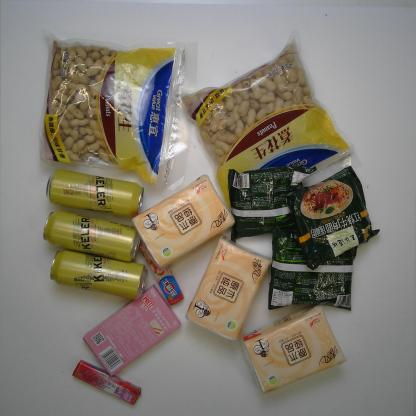Alcohol: (43, 210, 141, 262), (50, 249, 148, 300), (46, 169, 145, 217)
Candy: (138, 234, 184, 306), (72, 359, 142, 405)
Dessert: (83, 284, 181, 376)
Dried Food: (176, 32, 360, 225), (37, 28, 199, 194)
Instant Noodles: (284, 165, 381, 271), (268, 226, 360, 312), (228, 166, 317, 244)
Tissue: (132, 174, 235, 270), (240, 304, 346, 393), (186, 235, 271, 342)
